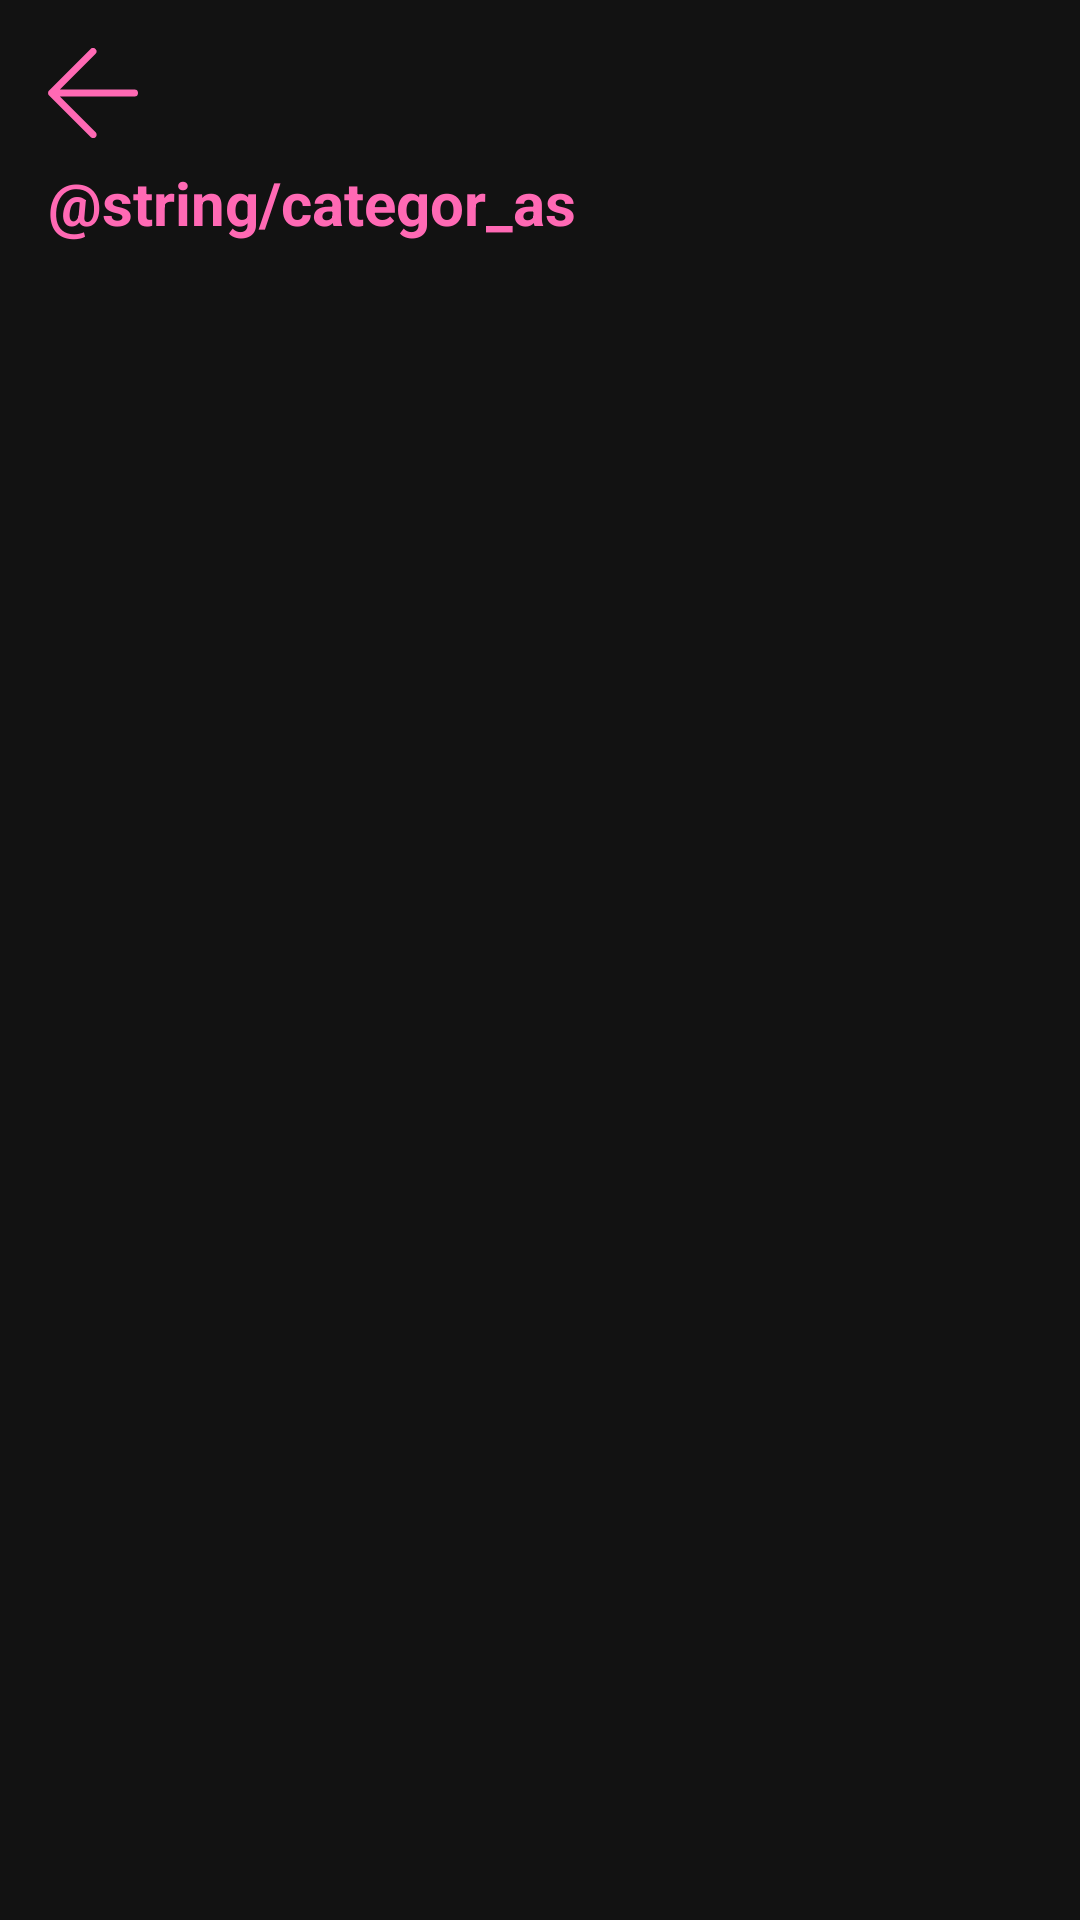

Where to tap for icons on this 1080×1920 app screen, as [x,y]:
flecha atras: [93,93]
